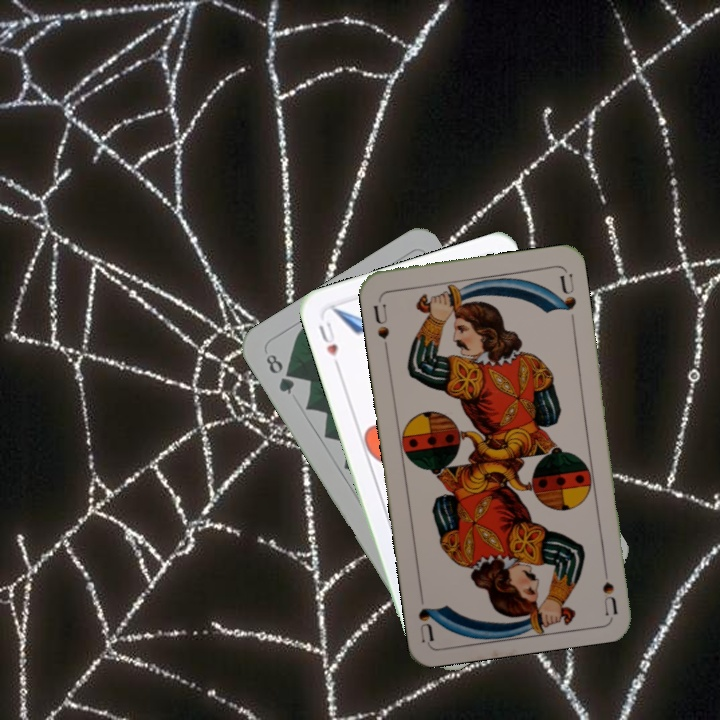G8: (261, 349, 297, 397)
HU: (314, 316, 341, 359)
SU: (598, 556, 620, 616), (370, 295, 392, 354)
